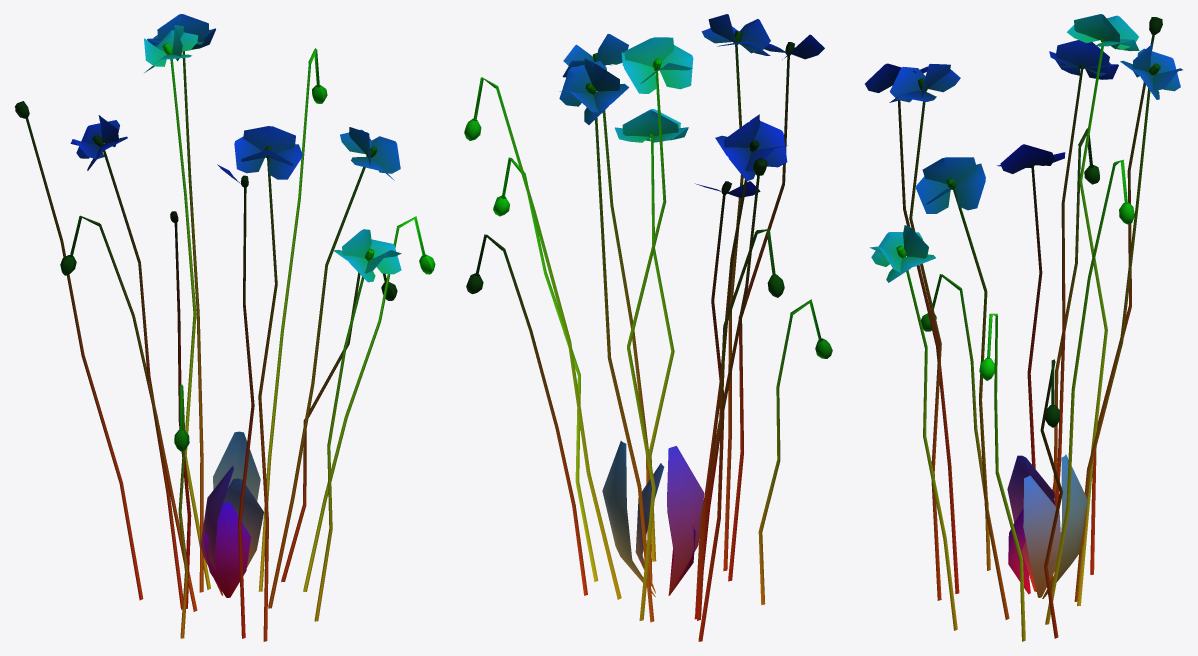
Rendered from SM_Flower_Poppy_C_LOD2.fbx.
3 views of the same model, side by side, from view 1: azimuth 30°, elevation 25°; view 2: azimuth 150°, elevation 25°; view 3: azimuth 270°, elevation 25° (orthographic). The views are drawn at different scales.
Parts seen in each view (by area): view 1: SM_Flower_Poppy_C_LOD2; view 2: SM_Flower_Poppy_C_LOD2; view 3: SM_Flower_Poppy_C_LOD2.
Boxes of the visible parts, x1,y1,x2,y2 form: SM_Flower_Poppy_C_LOD2: [15, 14, 435, 641]; SM_Flower_Poppy_C_LOD2: [464, 14, 832, 641]; SM_Flower_Poppy_C_LOD2: [865, 14, 1182, 641].
Bounding box in the file's own units: 0.4066 × 0.6455 × 0.3245.
